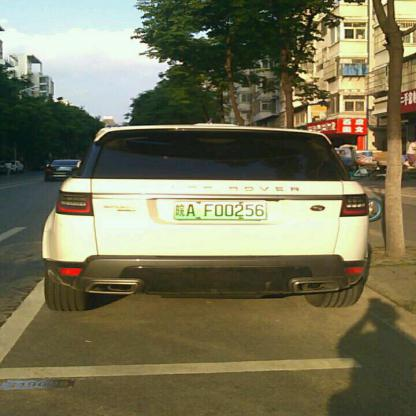lp: (175, 200, 268, 218)
